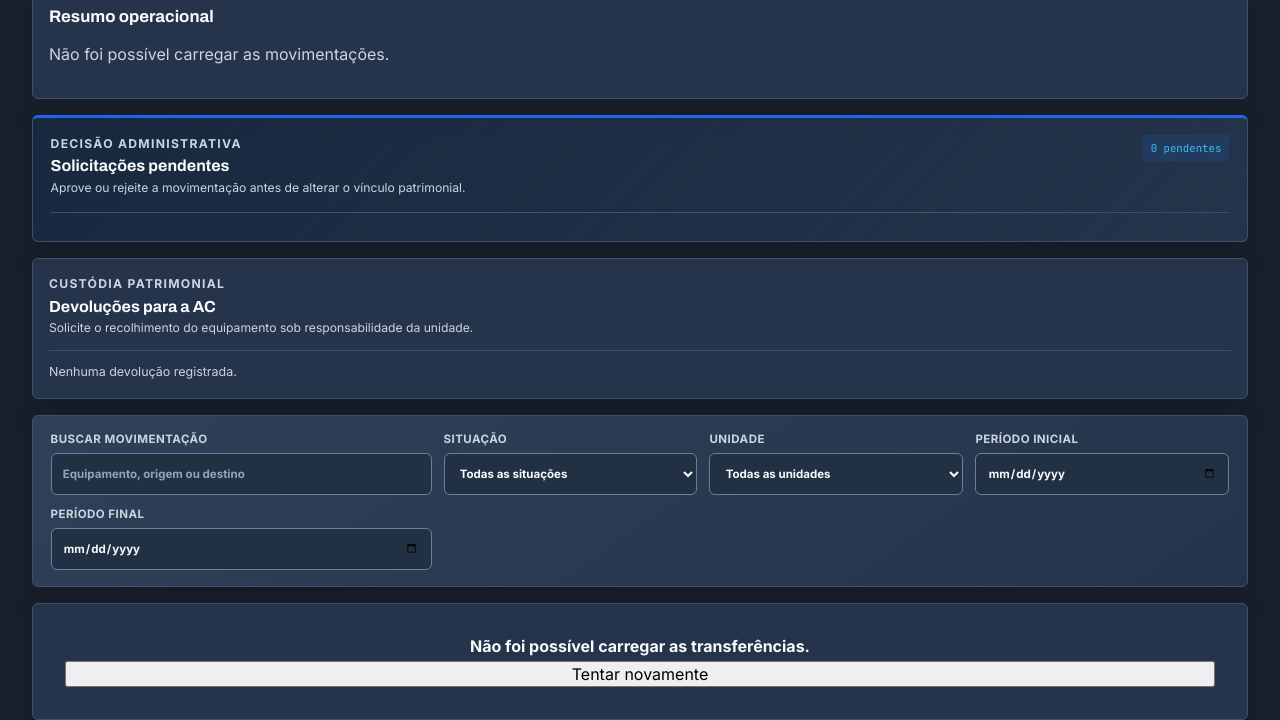
Test case: retries movement loading without leaking unhandled rejections
(page scrolled)
Check: the text "Não foi possível carregar as transferências." is shown, box [470, 636, 810, 656]
Click the button "Tentar novamente". click: x=640, y=674
box: [65, 661, 1215, 687]
(page scrolled)
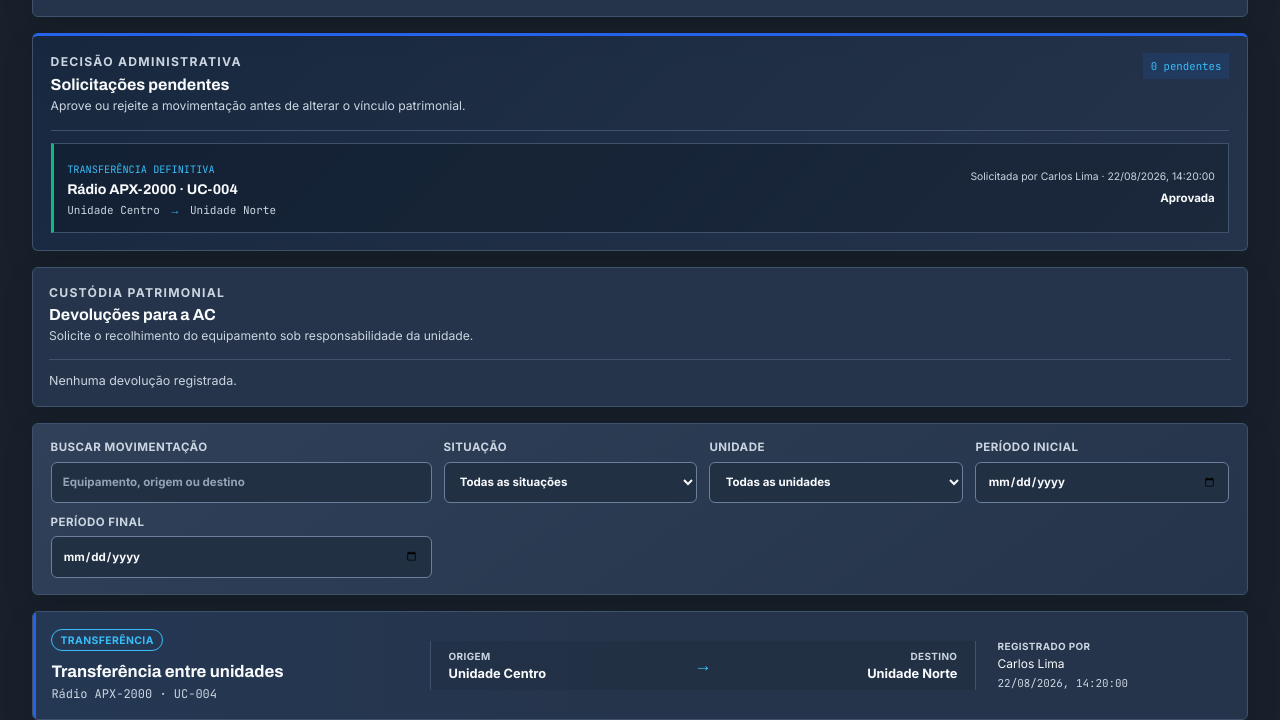
Check: the heading "Transferência entre unidades" is shown, box [51, 662, 284, 681]
